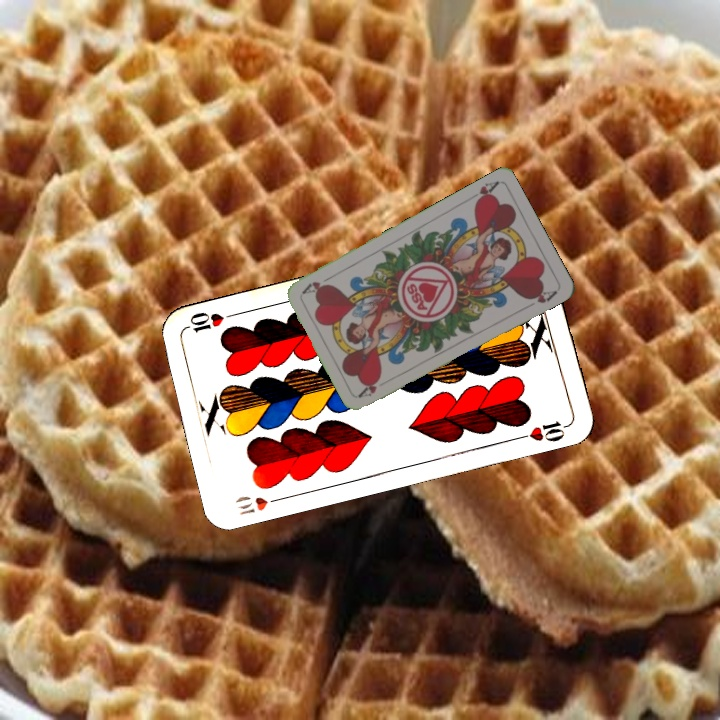H10: (231, 491, 288, 517)
HA: (463, 177, 501, 207), (355, 376, 382, 400)
